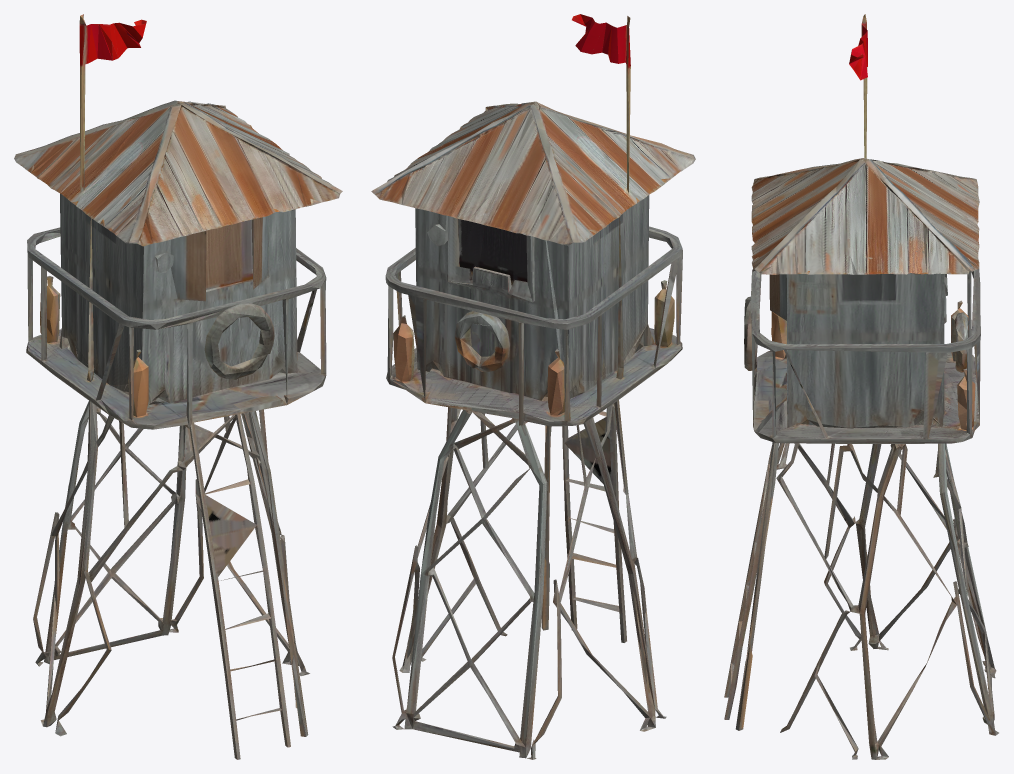
The picture shows the model from 3 angles, left to right: view 1: azimuth 30°, elevation 25°; view 2: azimuth 150°, elevation 25°; view 3: azimuth 270°, elevation 25°; orthographic projection. The views are drawn at different scales.
Parts seen in each view (by area): view 1: output_unwrapped; view 2: output_unwrapped; view 3: output_unwrapped.
Boxes of the visible parts, x1=… form: output_unwrapped: x1=14, y1=14, x2=342, y2=759; output_unwrapped: x1=371, y1=14, x2=695, y2=759; output_unwrapped: x1=724, y1=14, x2=998, y2=759.
Size of the model in its own units: 0.7184 by 1.9 by 0.7306.
1 material, 1 textured.
